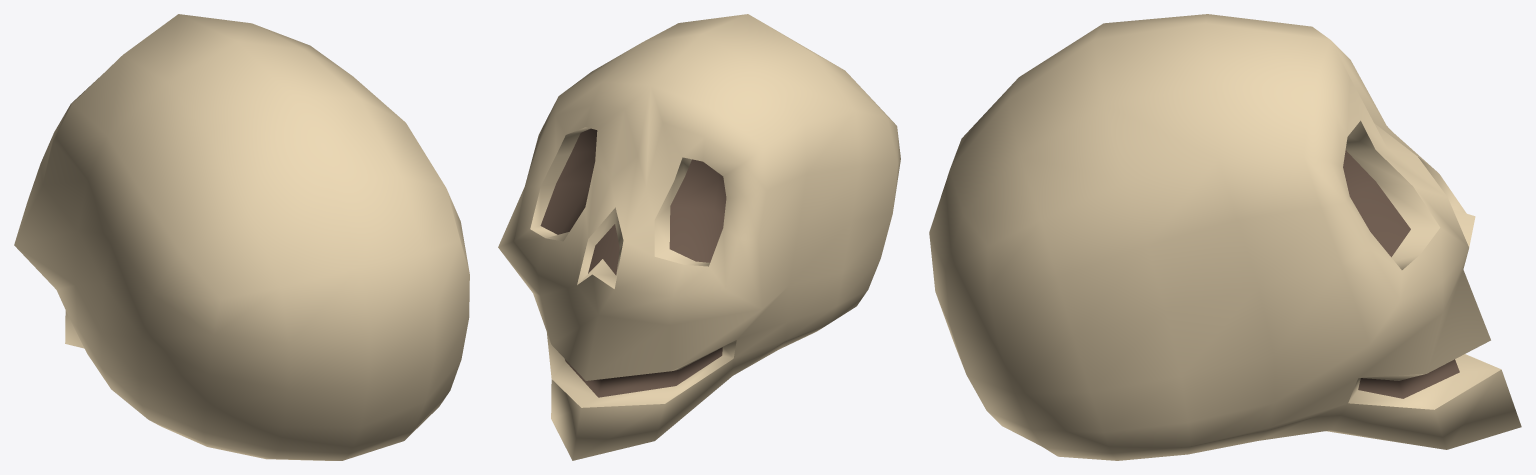
The model's file is props_skull.fbx.
3 views of the same model, side by side, from view 1: azimuth 30°, elevation 25°; view 2: azimuth 150°, elevation 25°; view 3: azimuth 270°, elevation 25° (orthographic). The views are drawn at different scales.
Parts seen in each view (by area): view 1: Roundcube.006; view 2: Roundcube.006; view 3: Roundcube.006.
Boxes of the visible parts, x1,y1,x2,y2 form: Roundcube.006: (14, 14, 469, 460); Roundcube.006: (498, 14, 900, 460); Roundcube.006: (929, 14, 1521, 460).
Bounding box in the file's own units: 78.74 × 90.65 × 121.
